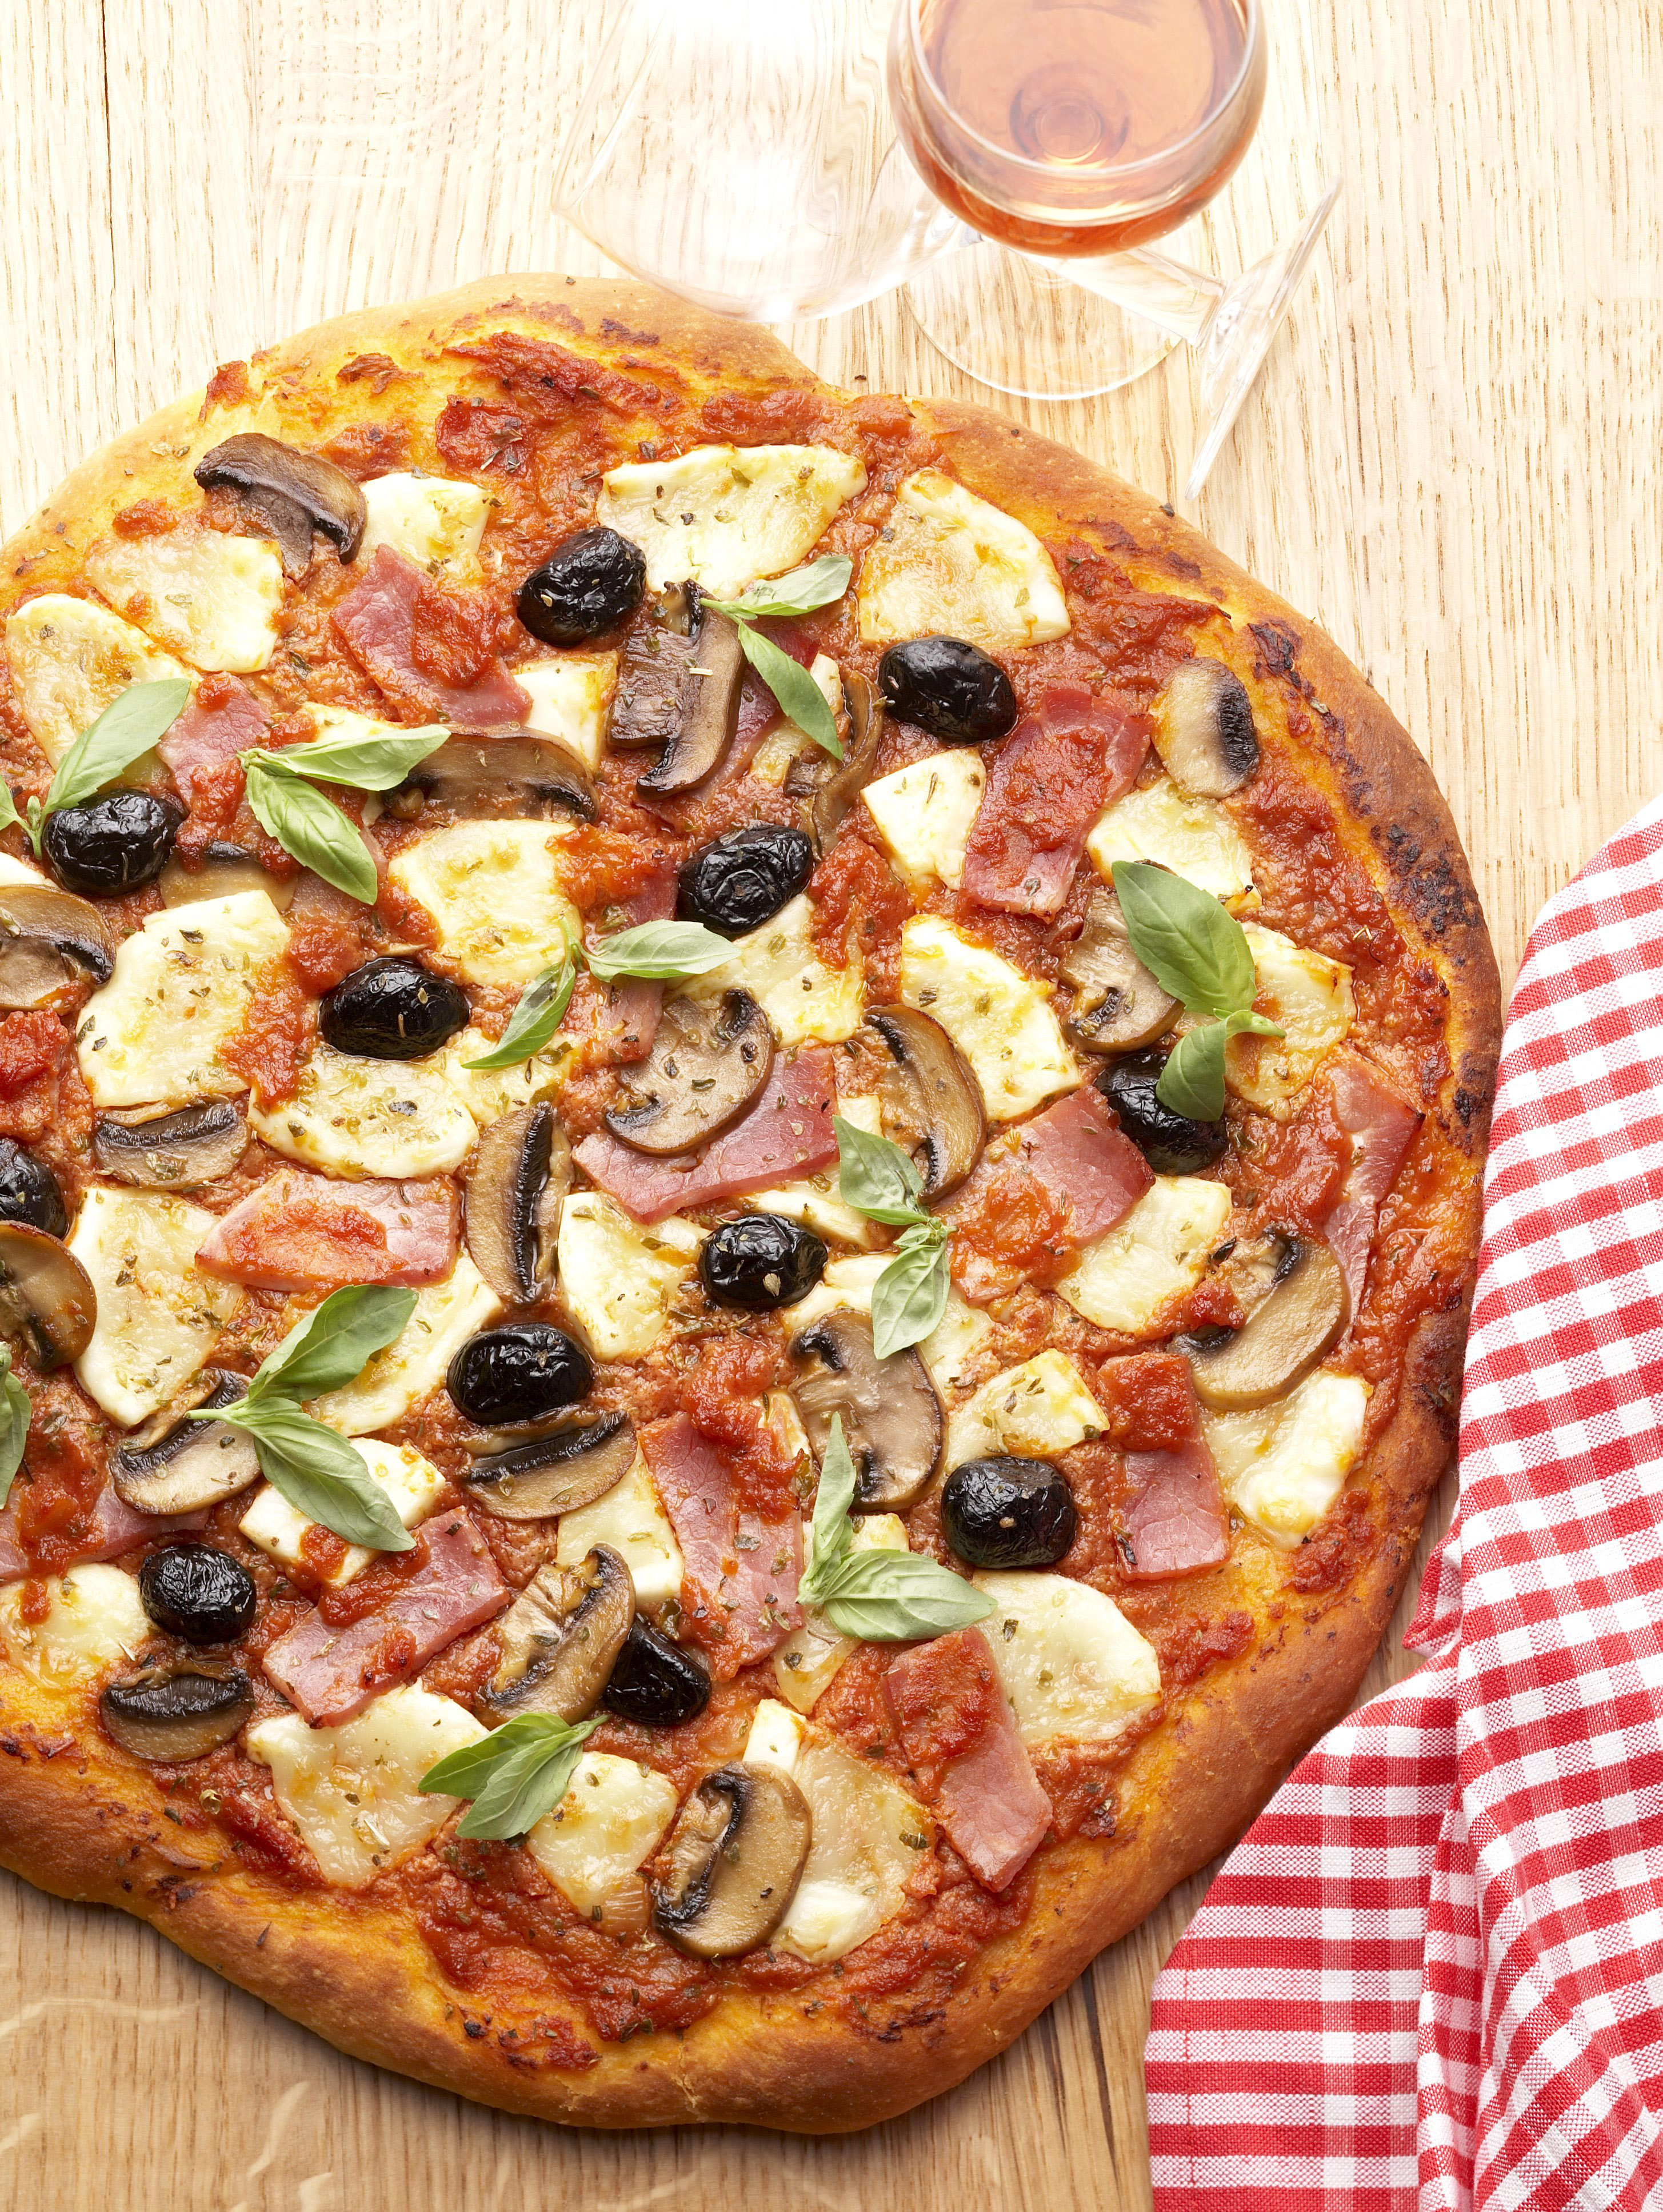olive: (882, 639, 1025, 750), (1104, 1043, 1223, 1174), (940, 1462, 1080, 1566), (318, 961, 461, 1054), (528, 536, 639, 652), (458, 1328, 592, 1421), (49, 798, 180, 891), (700, 1220, 828, 1309), (687, 839, 811, 923), (140, 1552, 257, 1637), (606, 1635, 697, 1728), (9, 1139, 70, 1232)
